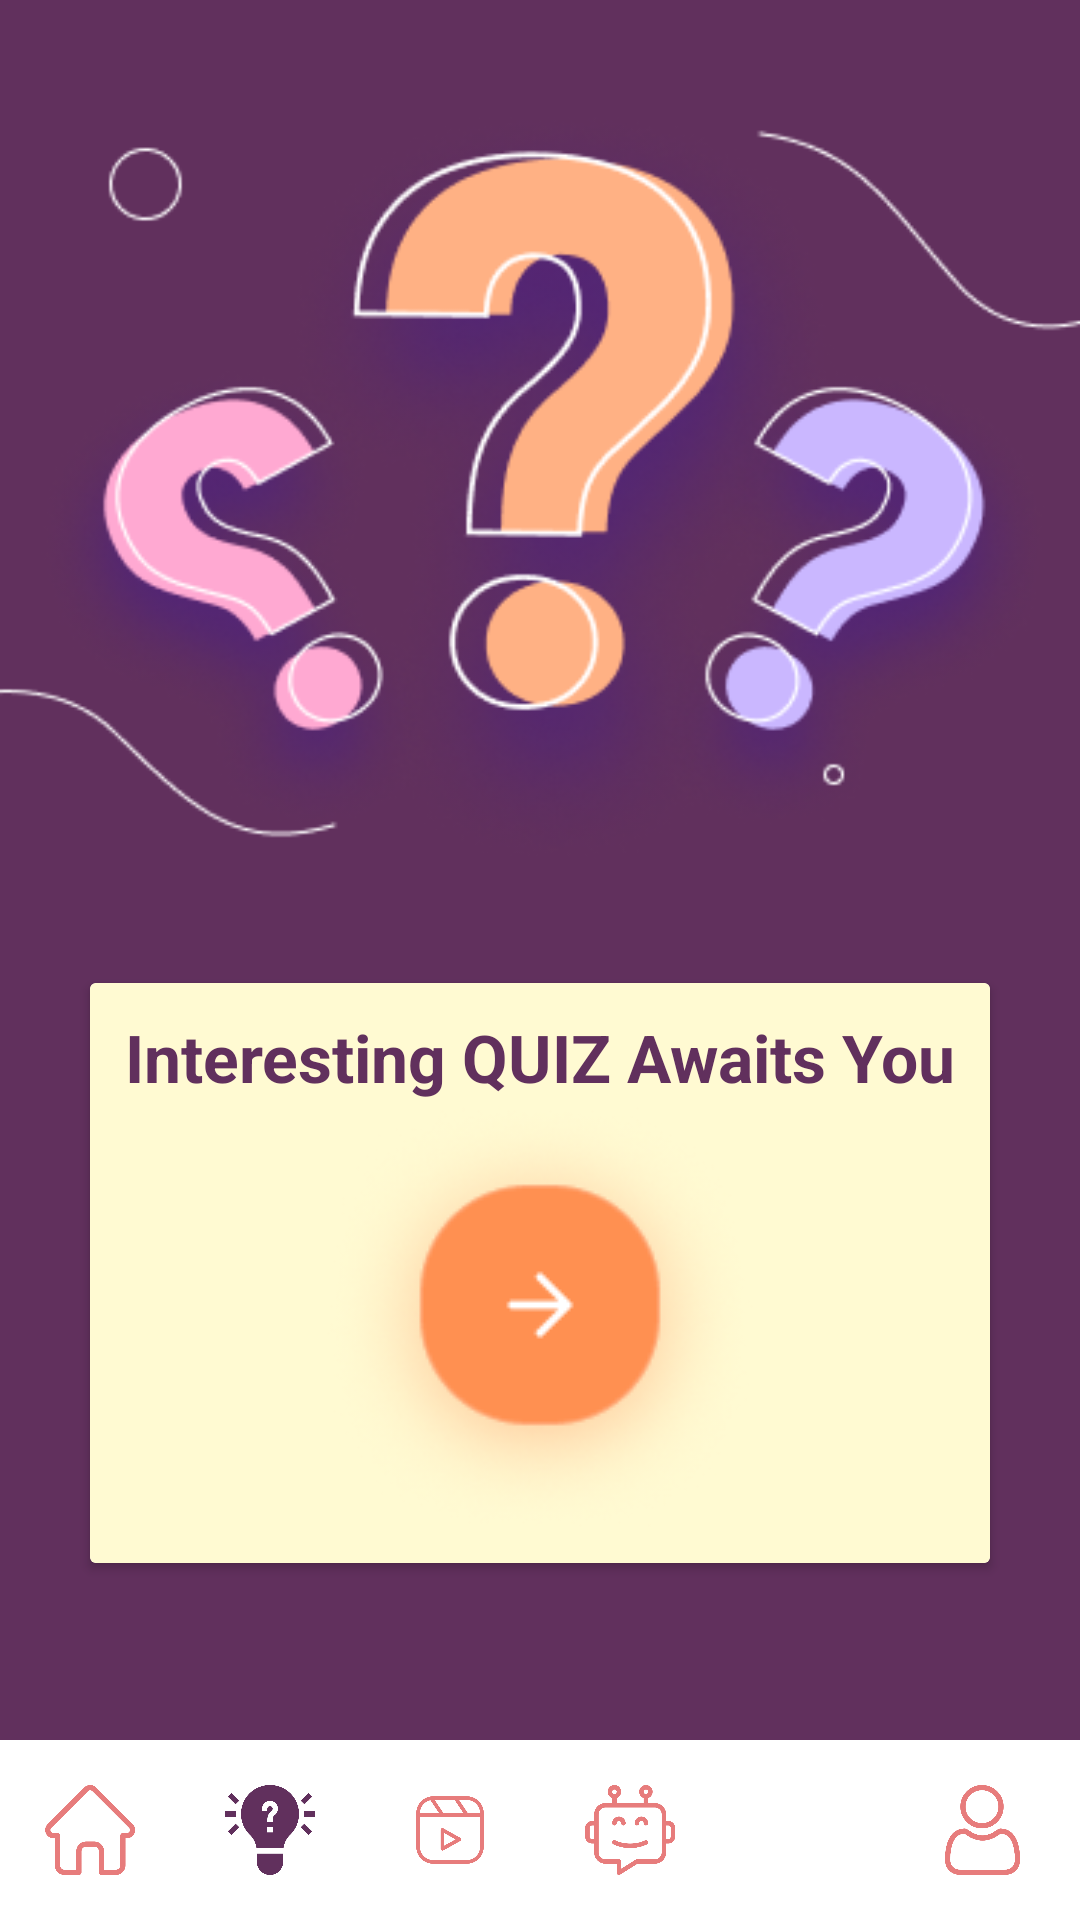

Screen size 1080×1920. Icon name, then its center in pixels as [x,y]:
bot: [630,1830]
home: [90,1830]
ideas: [270,1830]
next: [540,1315]
reel: [450,1830]
user: [982,1830]
